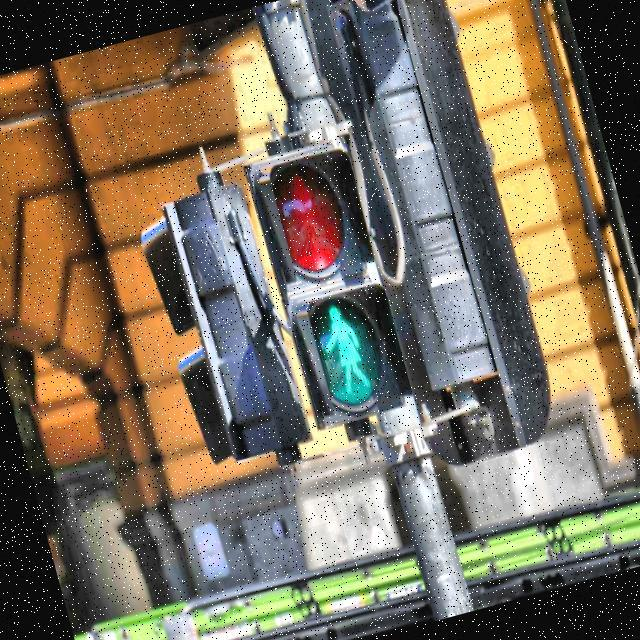green_light: (312, 296, 374, 401)
